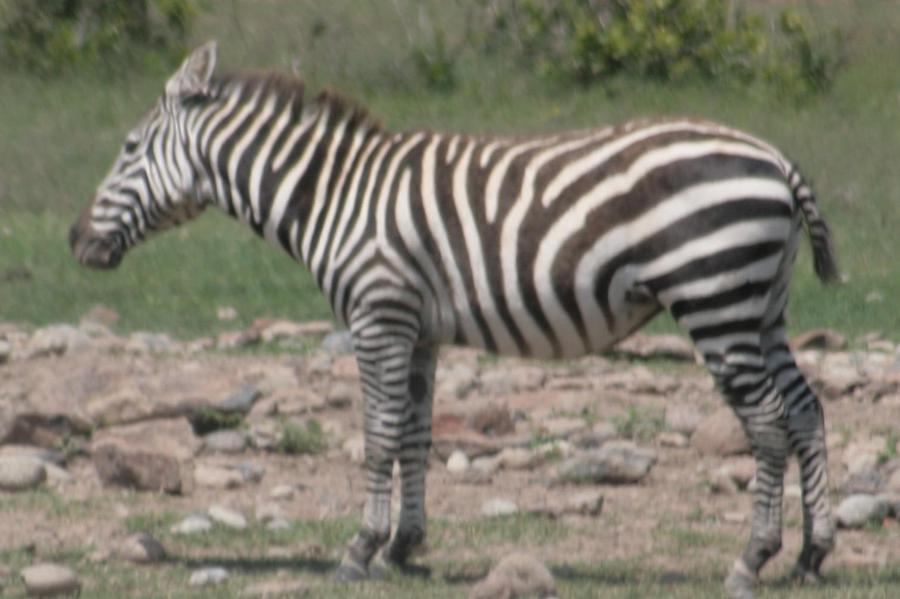zebra_plains: (289, 85, 824, 381)
